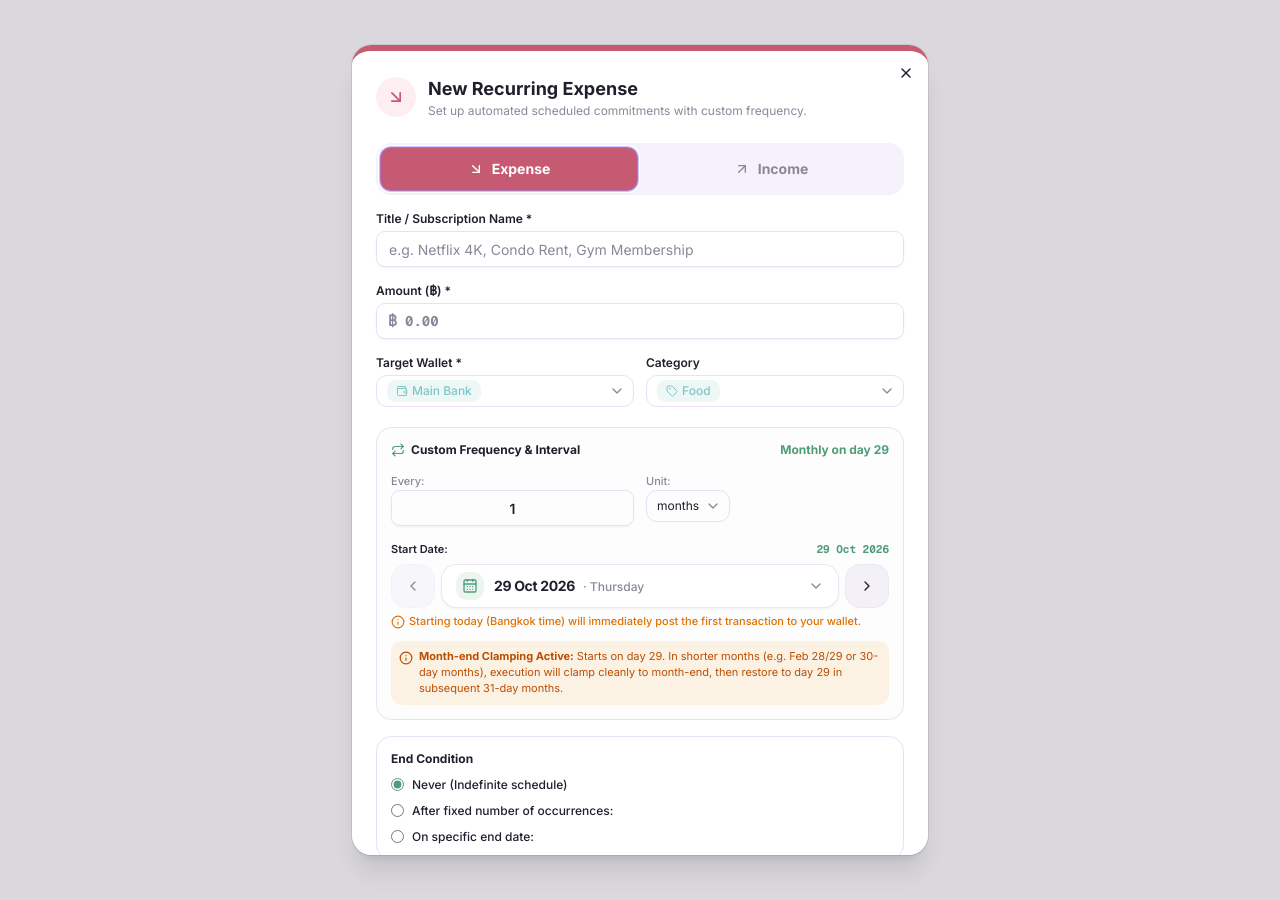
Test case: CreateRuleModal (US4-1) › validates interval limits (e.g. months > 60)
Type "Test Limit" into the field labelled "Title / Subscription Name *" at coordinates (640, 249), box [376,231,904,267]
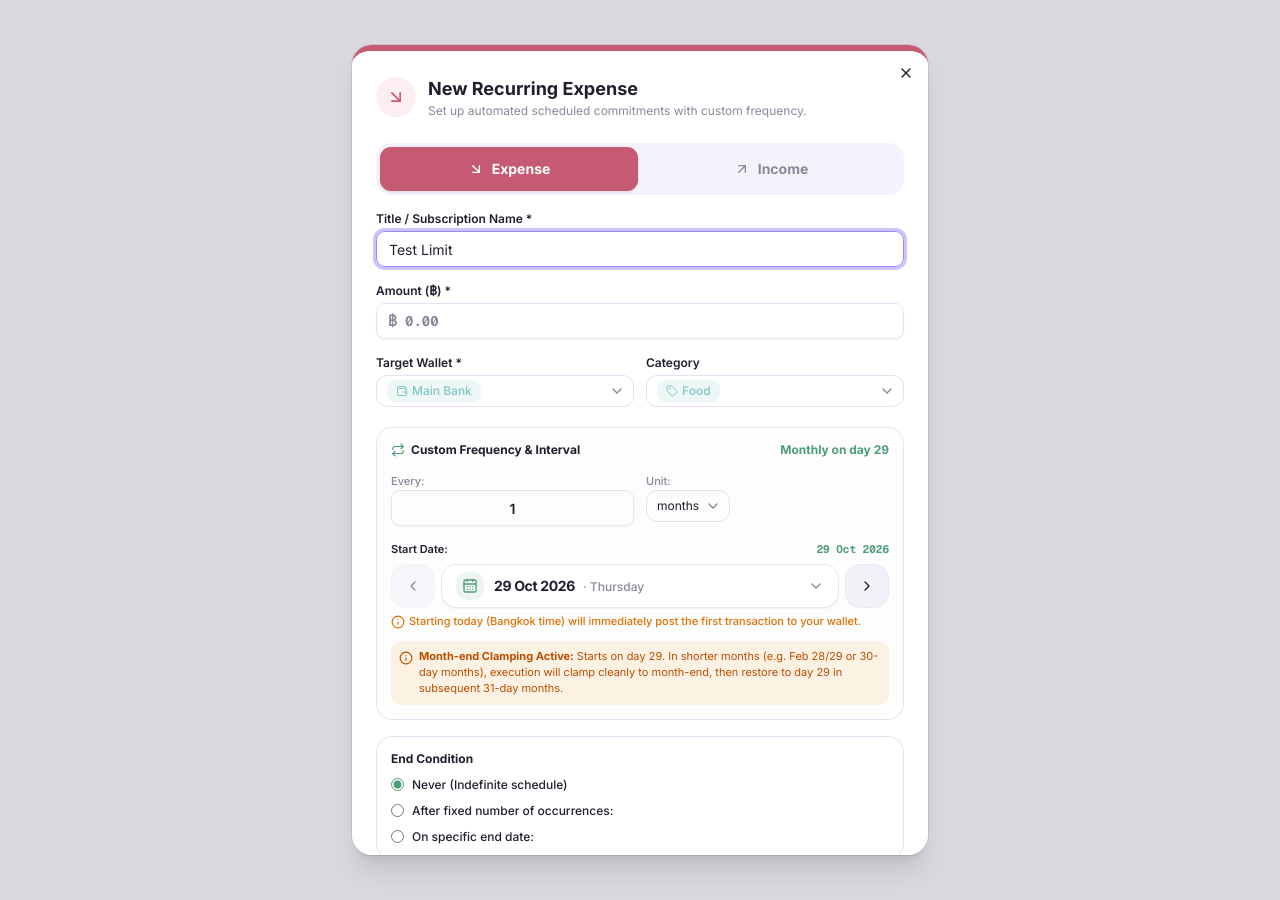
Type "500" into the number field labelled "Amount (฿) *" at coordinates (640, 321), box [376,303,904,339]
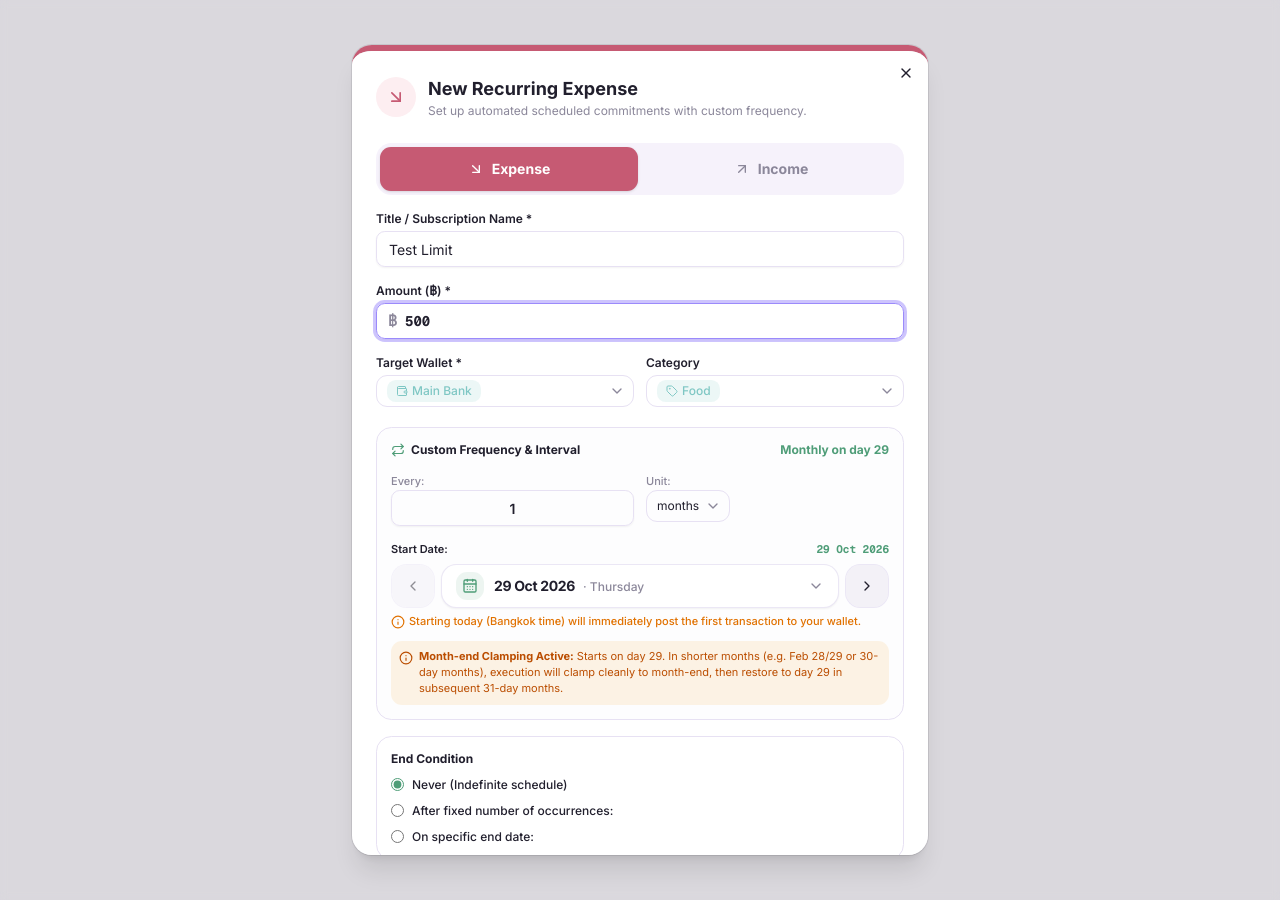
Replace the text in the field named "Interval count" with "70" at coordinates (512, 508), box [391,490,634,526]
(page scrolled)
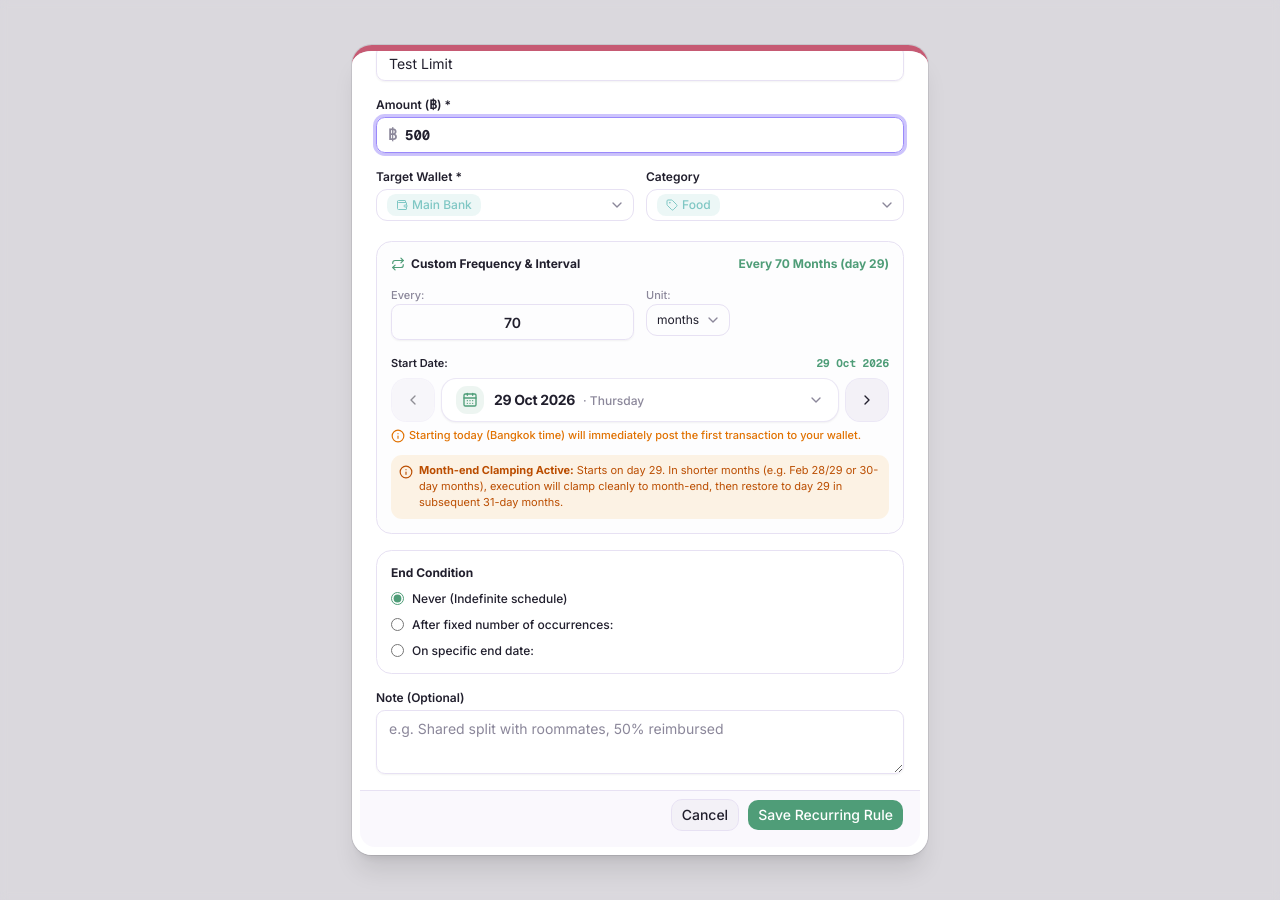
Click the button "Save Recurring Rule" at coordinates (826, 814), box [747,798,904,830]
(page scrolled)
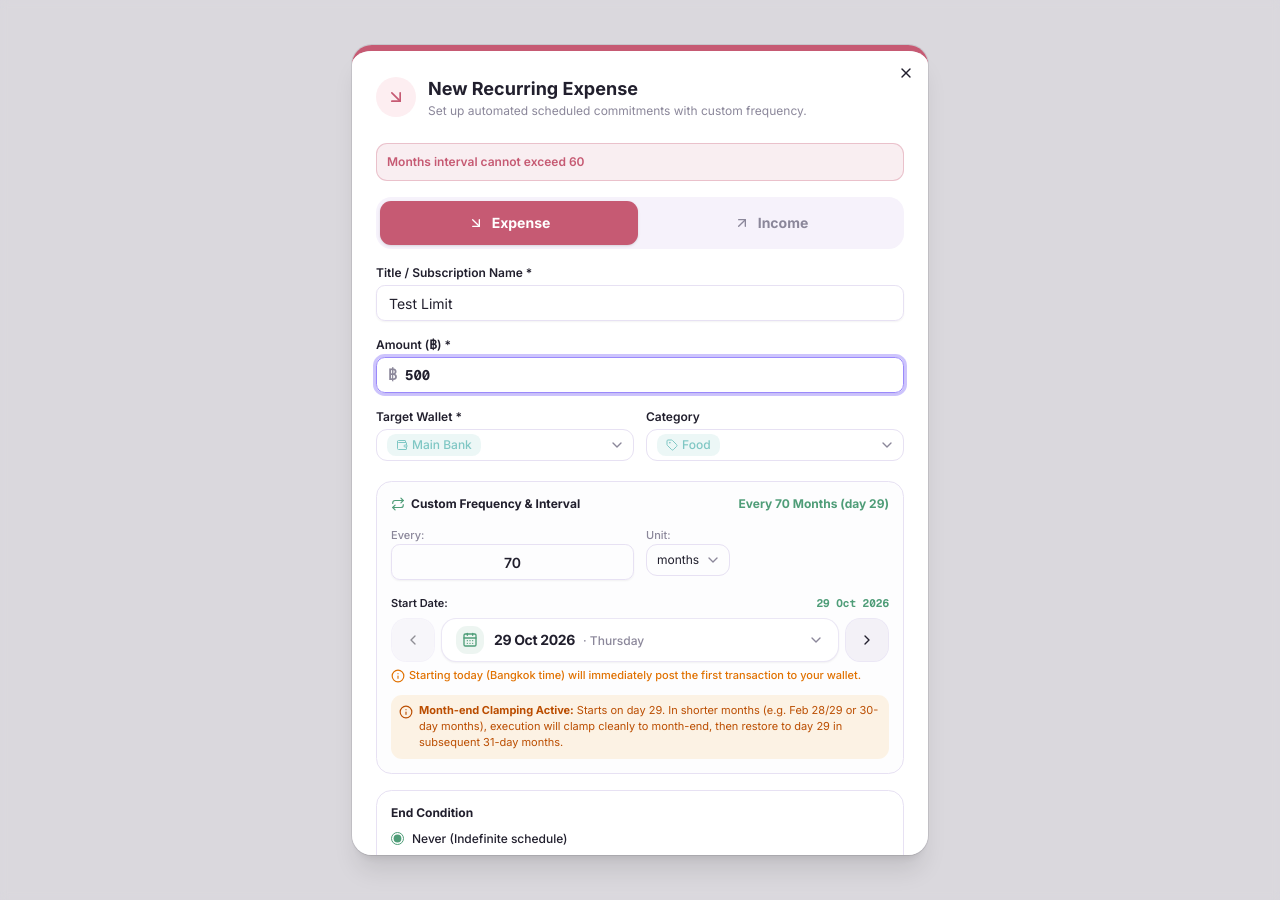
expect the text "Months interval cannot exceed 60" is shown: met, box [376,143,904,181]
